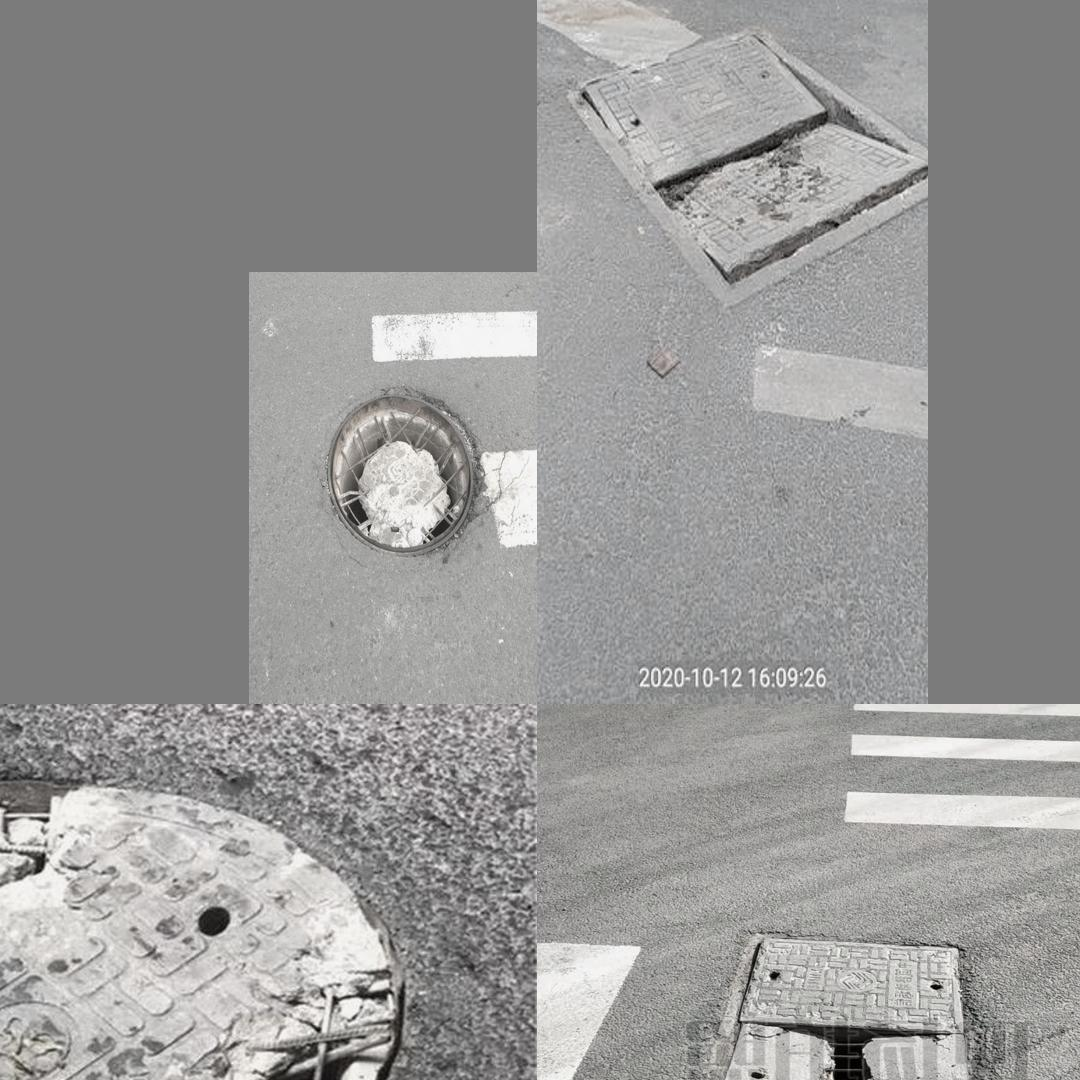broke: (0, 767, 415, 1080), (564, 0, 925, 311), (701, 937, 978, 1080), (320, 375, 486, 561)
